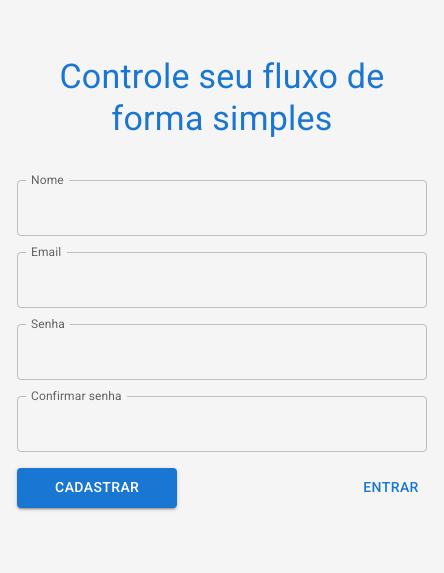
Test: Register › should render require email valid
In the field labelled "Email": (222, 280) [17,252,427,308], type "admin@"
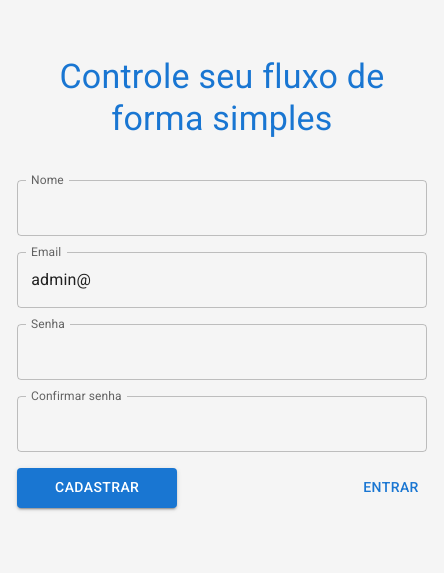
Click the button "Cadastrar": (97, 488) [17,468,177,508]
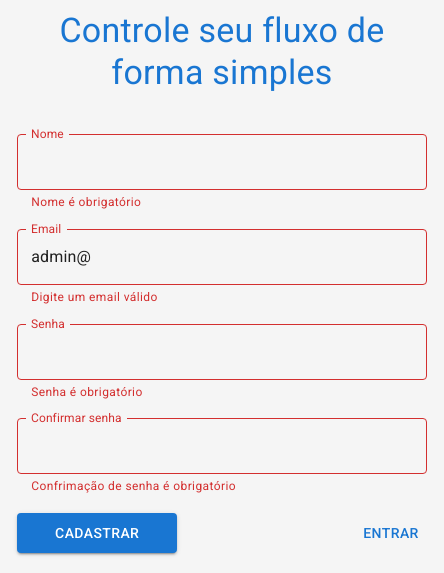
Expected: the text "Digite um email válido" is shown, [31,290,158,304]
